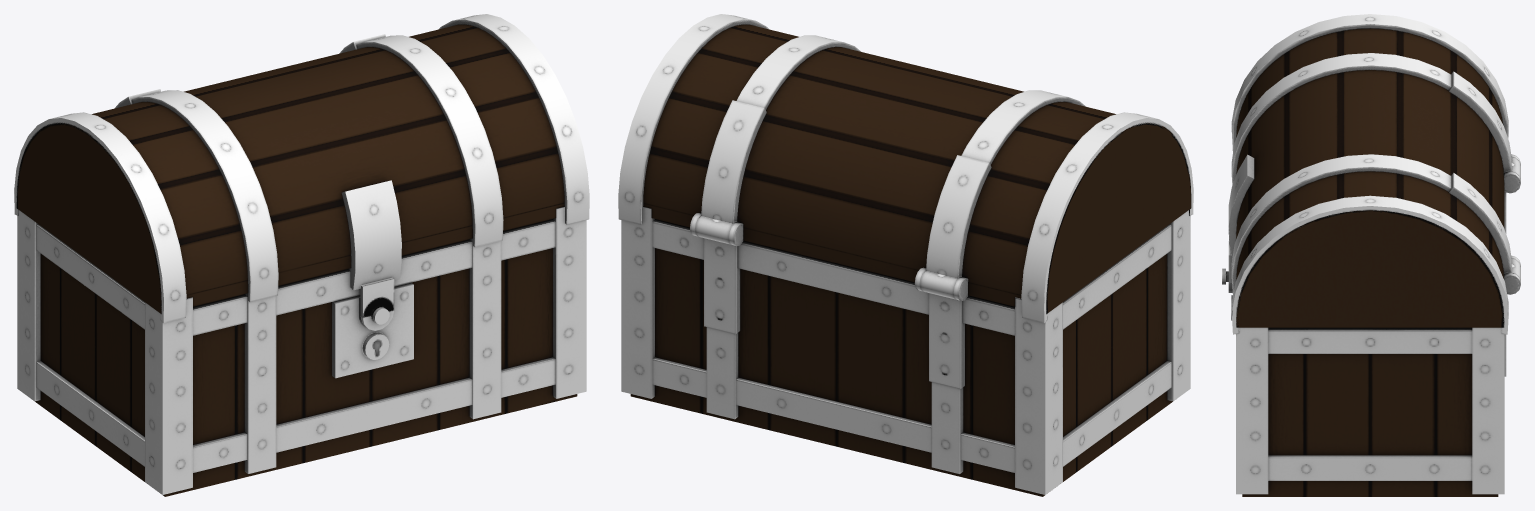
3 renders of one model, left to right at view 1: azimuth 30°, elevation 25°; view 2: azimuth 150°, elevation 25°; view 3: azimuth 270°, elevation 25°, orthographic. The views are drawn at different scales.
Visible parts, largest first — view 1: LP_Lid.001, LP_Ironwork.001, LP_Body.001, LP_Lock.001; view 2: LP_Lid.001, LP_Ironwork.001, LP_Body.001, LP_Hinges.001; view 3: LP_Lid.001, LP_Ironwork.001, LP_Body.001, LP_Hinges.001, LP_Lock.001.
Boxes of the visible parts, <box> form: LP_Lid.001: <box>16,24,564,313</box>; LP_Ironwork.001: <box>14,14,589,494</box>; LP_Body.001: <box>35,219,577,496</box>; LP_Lock.001: <box>332,180,413,378</box>; LP_Lid.001: <box>643,24,1191,313</box>; LP_Ironwork.001: <box>618,14,1193,494</box>; LP_Body.001: <box>630,219,1172,496</box>; LP_Hinges.001: <box>690,100,991,388</box>; LP_Lid.001: <box>1236,28,1504,327</box>; LP_Ironwork.001: <box>1231,14,1508,494</box>; LP_Body.001: <box>1242,327,1498,496</box>; LP_Hinges.001: <box>1449,71,1520,376</box>; LP_Lock.001: <box>1222,154,1254,320</box>.
Bounding box in the file's own units: 1.14 × 0.812 × 0.748.
2 materials, 2 textured.
